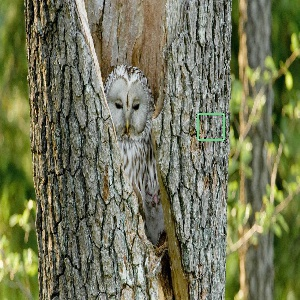square: (194, 111, 227, 142)
